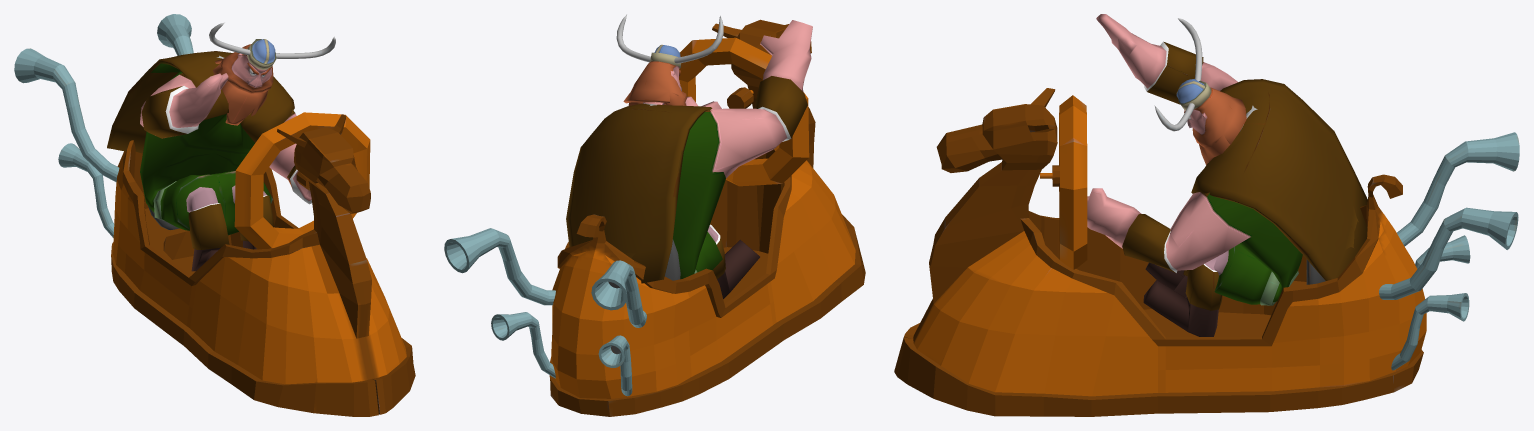
Rendered from vikingoKartHabilidad_000513.obj.
The picture shows the model from 3 angles, left to right: view 1: azimuth 30°, elevation 25°; view 2: azimuth 150°, elevation 25°; view 3: azimuth 270°, elevation 25°; orthographic projection. The views are drawn at different scales.
Parts seen in each view (by area): view 1: kartVikingo, Vikingo; view 2: kartVikingo, Vikingo; view 3: kartVikingo, Vikingo.
Boxes of the visible parts, box(x1,y1,x2,y2) form: kartVikingo: box(14, 14, 415, 416); Vikingo: box(107, 22, 335, 271); kartVikingo: box(444, 19, 865, 416); Vikingo: box(566, 14, 812, 298); kartVikingo: box(894, 88, 1519, 416); Vikingo: box(1087, 14, 1367, 336).
Size of the model in its own units: 3.99 by 6.21 by 10.31.
